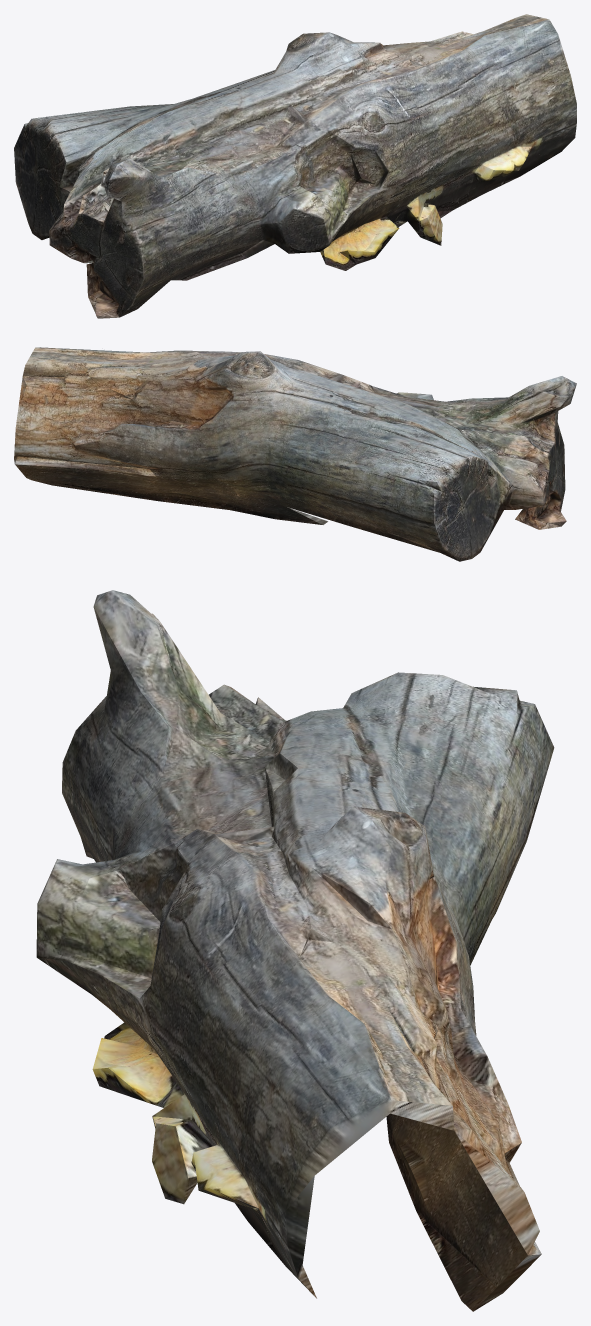
3 views of the same model, one above another, from view 1: azimuth 30°, elevation 25°; view 2: azimuth 150°, elevation 25°; view 3: azimuth 270°, elevation 25° (orthographic). The views are drawn at different scales.
Visible parts, largest first — view 1: Object_2; view 2: Object_2; view 3: Object_2.
Boxes of the visible parts, <box> form: Object_2: <box>14,14,576,318</box>; Object_2: <box>14,347,576,561</box>; Object_2: <box>36,590,554,1311</box>.
Bounding box in the file's own units: 3.36 × 1.12 × 1.57.
1 material, 1 textured.
